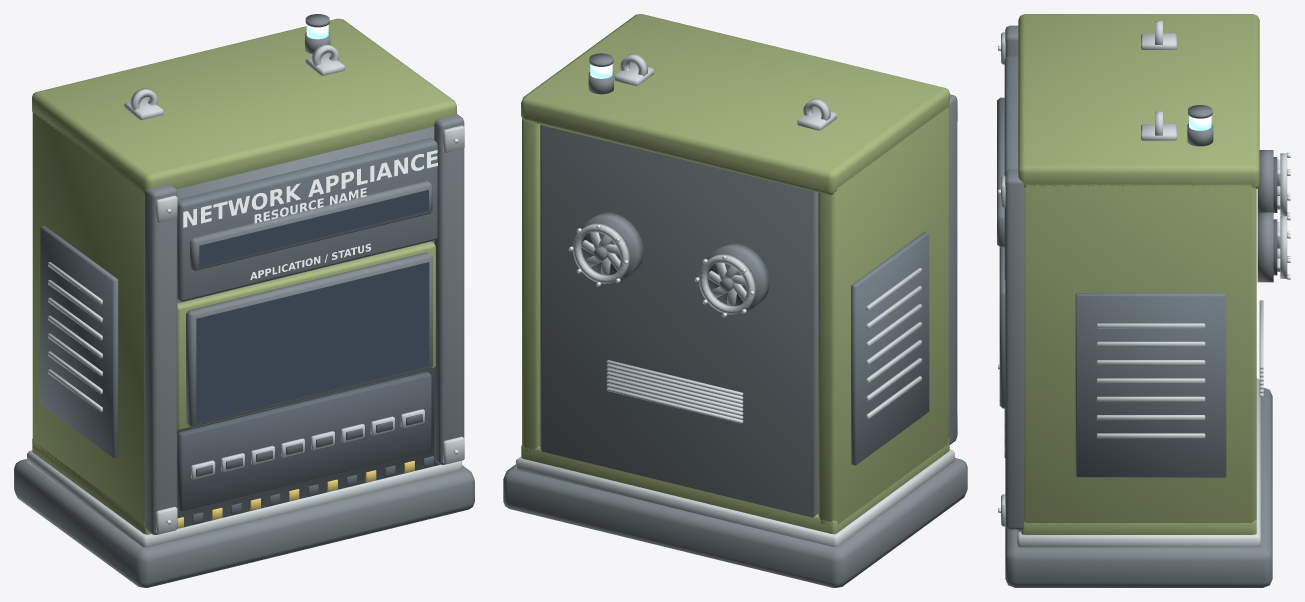
The model's file is network_appliance_enhanced.glb.
The picture shows the model from 3 angles, left to right: view 1: azimuth 30°, elevation 25°; view 2: azimuth 150°, elevation 25°; view 3: azimuth 270°, elevation 25°; orthographic projection. The views are drawn at different scales.
Parts seen in each view (by area): view 1: Roof_olive, LiveViewSurface_glass, SideWall_olive, CornerPost_frame, Skid_frame, PatchPanel_black, FrontHeader_graphite, SideServicePanel_graphite, SealFront_frame, SkidDeck_steel, LiveViewSurfaceFrame_frame, ResourceNameSurface_glass (+14 smaller); view 2: BackWall_frame, Roof_olive, SideWall_olive, Skid_frame, SideServicePanel_graphite, SkidDeck_steel, KickPlate_olive, RearFan_steel, RearVent_steel, CornerPost_frame, RearFan_frame, SideLouver_steel (+3 smaller); view 3: SideWall_olive, Roof_olive, SideServicePanel_graphite, Skid_frame, CornerPost_frame, SideLouver_steel, SkidDeck_steel, KickPlate_olive, RearFan_frame, FrontHeader_graphite, RearFan_steel, LiveViewSurfaceFrame_frame (+7 smaller).
Boxes of the visible parts, <box> form: Roof_olive: <box>32,18,456,194</box>; LiveViewSurface_glass: <box>196,262,429,422</box>; SideWall_olive: <box>32,112,144,521</box>; CornerPost_frame: <box>144,114,464,534</box>; Skid_frame: <box>14,459,474,587</box>; PatchPanel_black: <box>177,372,431,511</box>; FrontHeader_graphite: <box>177,138,437,301</box>; SideServicePanel_graphite: <box>40,226,118,457</box>; SealFront_frame: <box>176,126,439,527</box>; SkidDeck_steel: <box>27,450,461,547</box>; LiveViewSurfaceFrame_frame: <box>186,252,432,427</box>; ResourceNameSurface_glass: <box>199,189,428,266</box>; BackWall_frame: <box>540,125,818,517</box>; Roof_olive: <box>521,14,949,195</box>; SideWall_olive: <box>522,107,948,525</box>; Skid_frame: <box>503,458,967,587</box>; SideServicePanel_graphite: <box>851,231,929,465</box>; SkidDeck_steel: <box>516,449,954,547</box>; KickPlate_olive: <box>521,438,949,534</box>; RearFan_steel: <box>572,223,755,314</box>; RearVent_steel: <box>606,360,743,423</box>; CornerPost_frame: <box>948,94,957,444</box>; RearFan_frame: <box>581,212,769,312</box>; SideLouver_steel: <box>866,268,921,419</box>; SideWall_olive: <box>1024,184,1256,525</box>; Roof_olive: <box>1018,14,1259,188</box>; SideServicePanel_graphite: <box>1075,293,1226,477</box>; Skid_frame: <box>1005,388,1272,587</box>; CornerPost_frame: <box>1005,25,1024,529</box>; SideLouver_steel: <box>1096,323,1205,438</box>; SkidDeck_steel: <box>1017,378,1260,547</box>; KickPlate_olive: <box>1021,520,1256,534</box>; RearFan_frame: <box>1257,150,1273,282</box>; FrontHeader_graphite: <box>1004,56,1018,280</box>; RearFan_steel: <box>1277,153,1287,278</box>; LiveViewSurfaceFrame_frame: <box>999,247,1005,408</box>.
Bounding box in the file's own units: 2 × 2.48 × 1.47.
